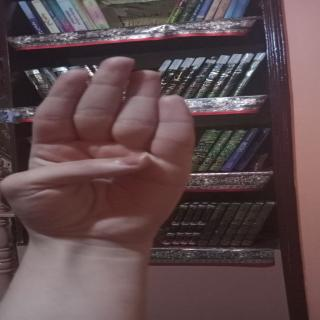KAAF: (0, 51, 209, 240)
